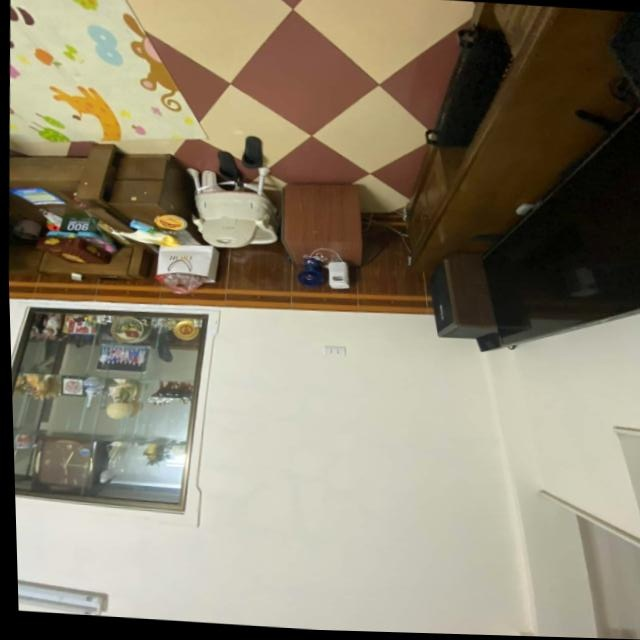outlet: (324, 344, 347, 356)
